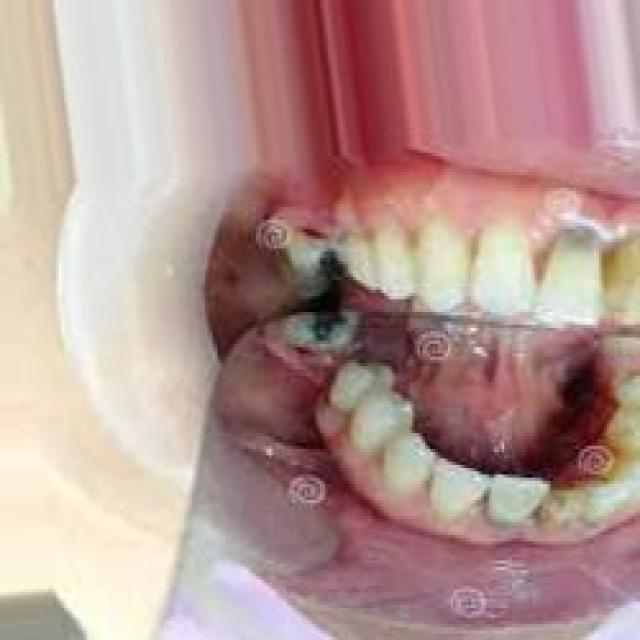caries: (291, 297, 347, 353), (301, 238, 357, 290), (534, 483, 581, 536)
